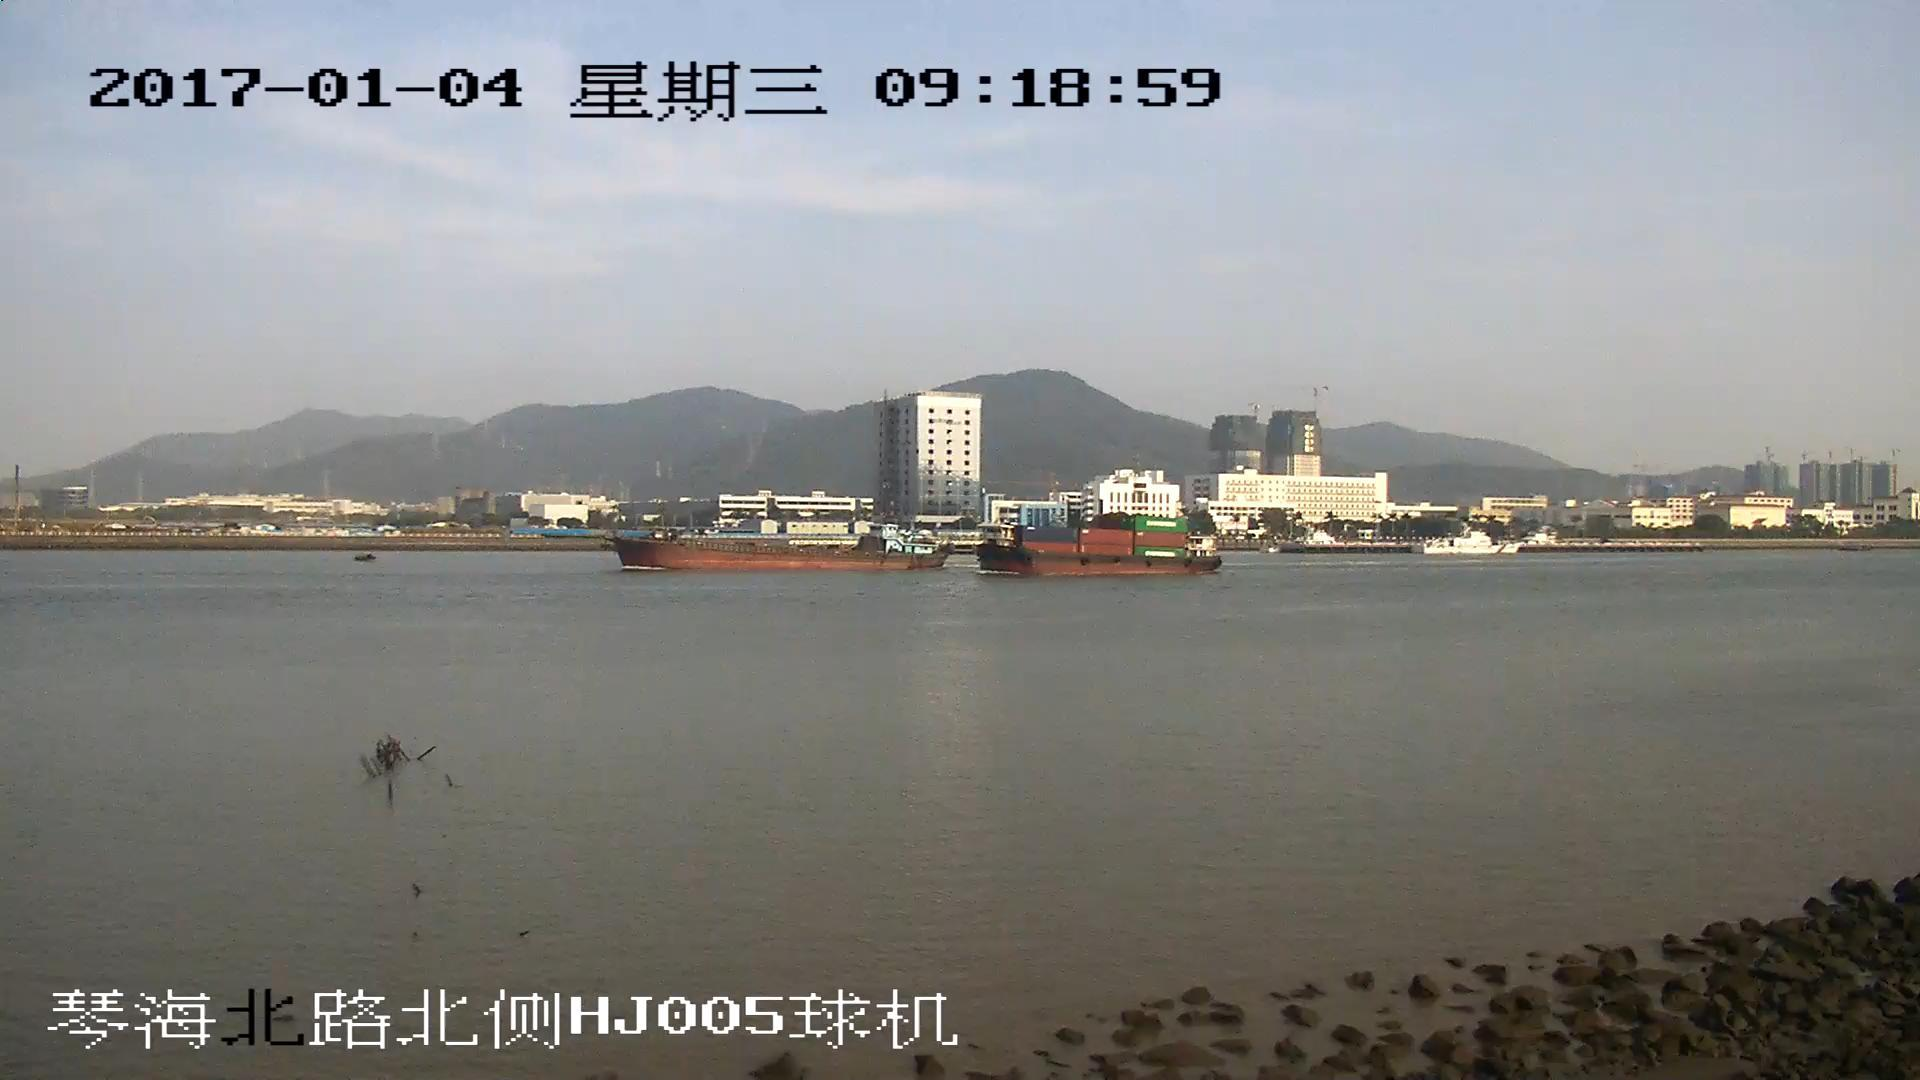Ship: (615, 522, 945, 574), (976, 513, 1222, 576)
